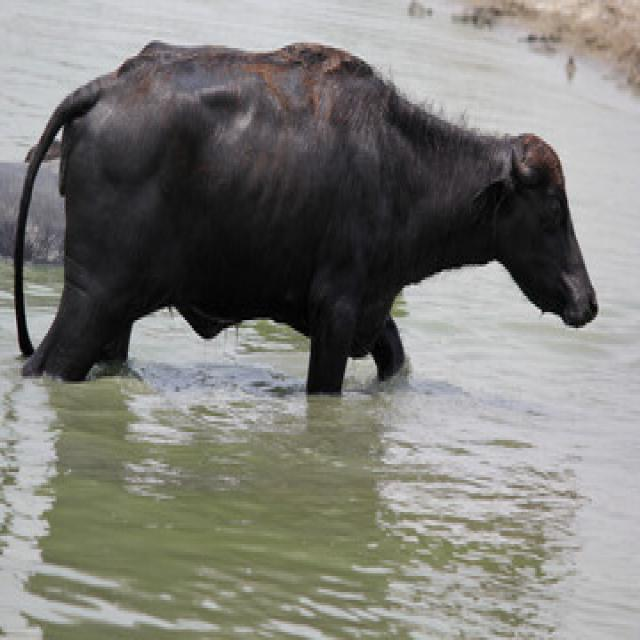Buffalo: (5, 35, 599, 400)
